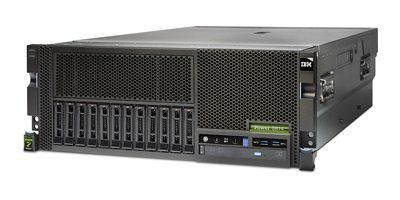ibm-server: (21, 22, 380, 174)
